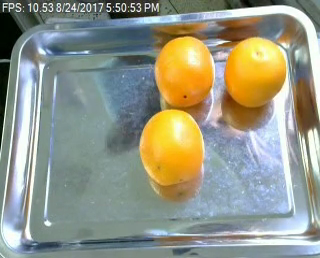Orange: (138, 108, 203, 185), (152, 37, 215, 108), (222, 37, 285, 107)
